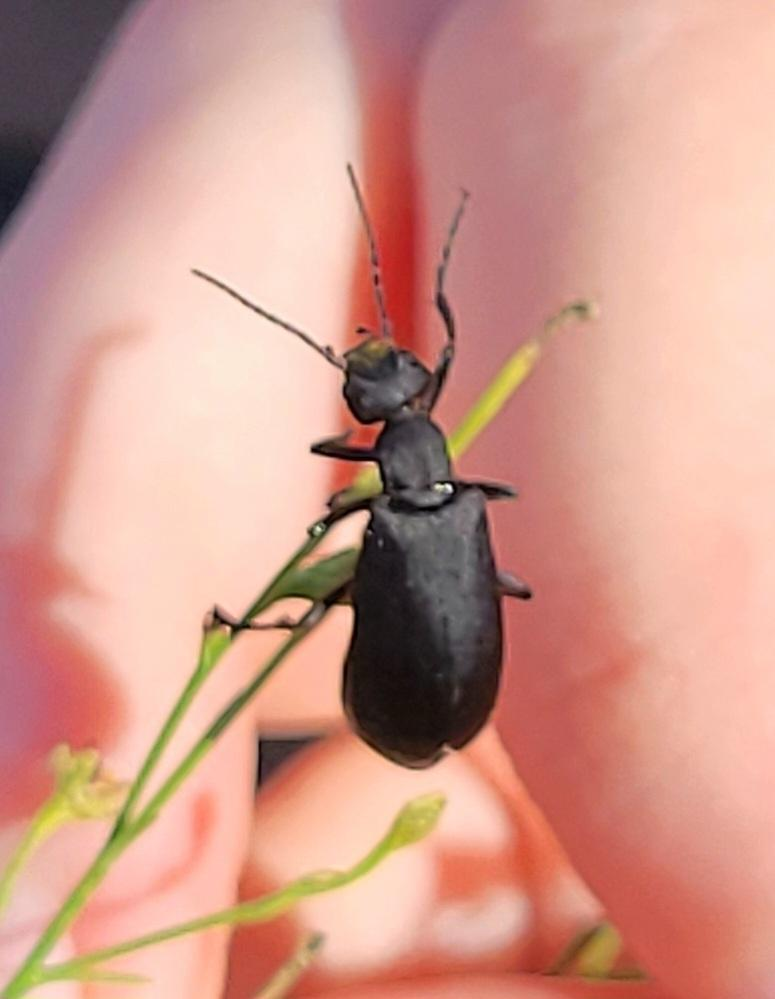blister_beetle: (118, 122, 715, 847)
